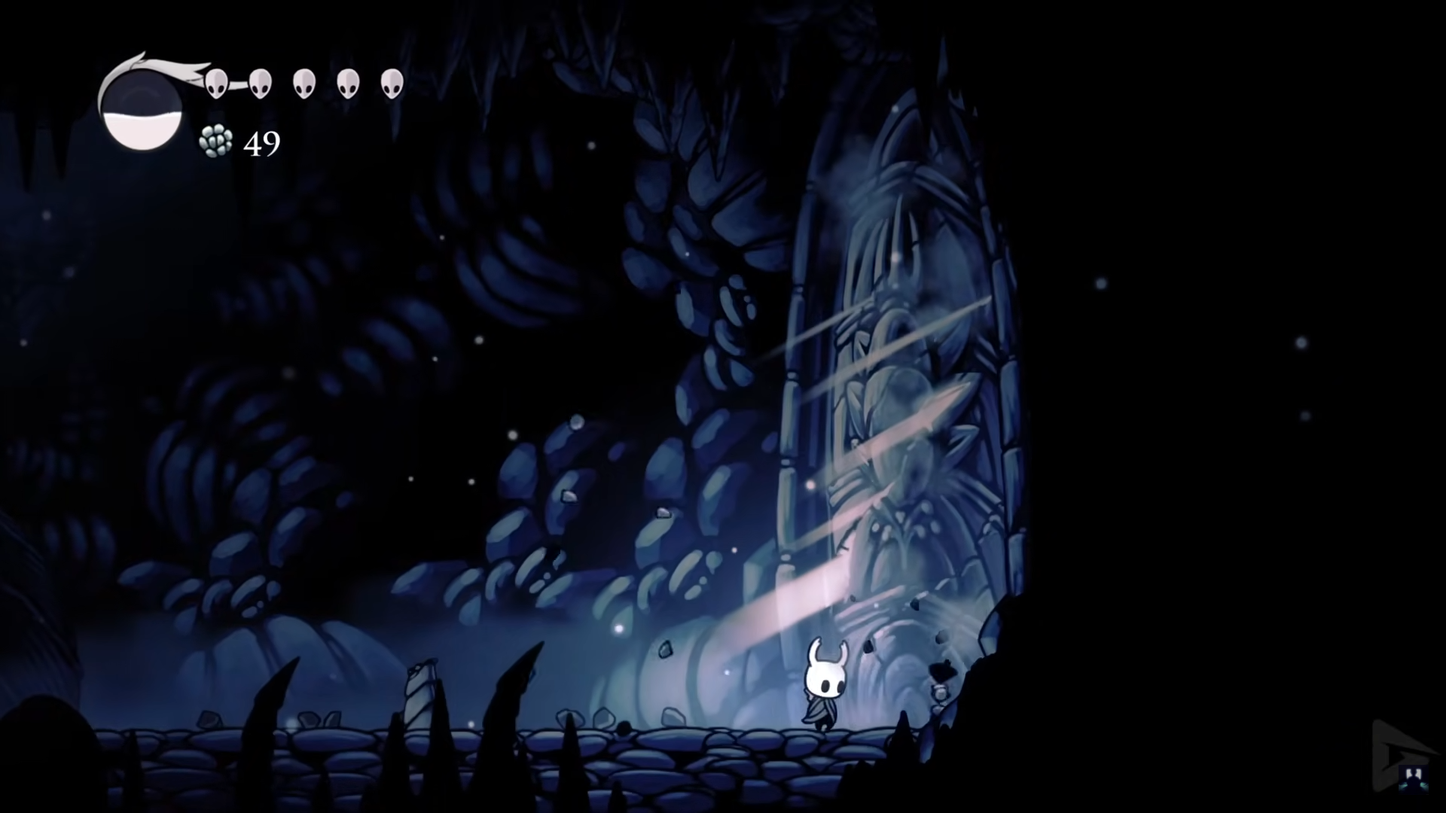HK: (795, 633, 850, 735)
